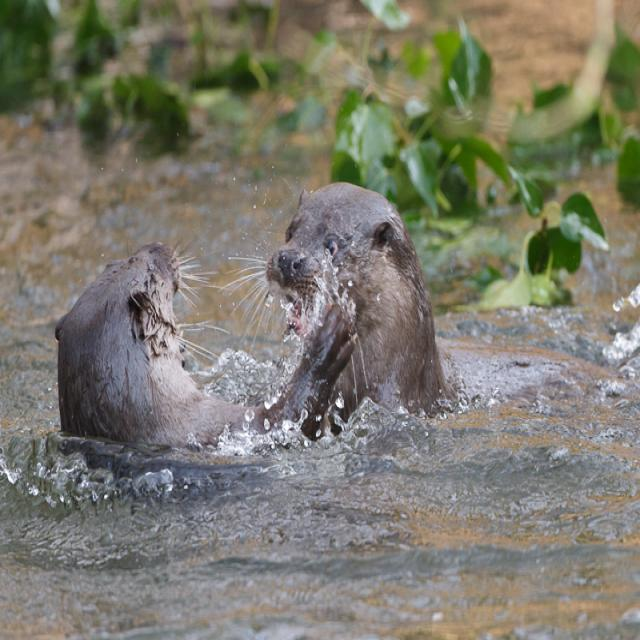otter: (272, 183, 442, 413), (60, 243, 193, 443)
